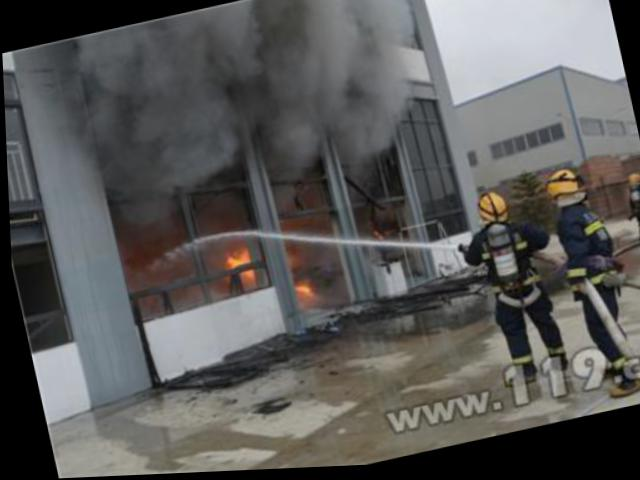fire: (215, 246, 246, 268), (289, 279, 311, 309), (234, 268, 254, 290)
